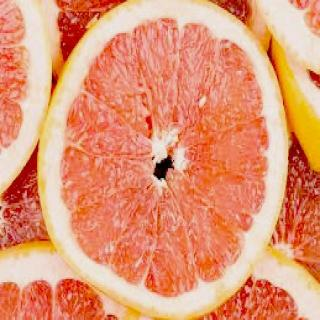orange: (36, 0, 296, 320)
